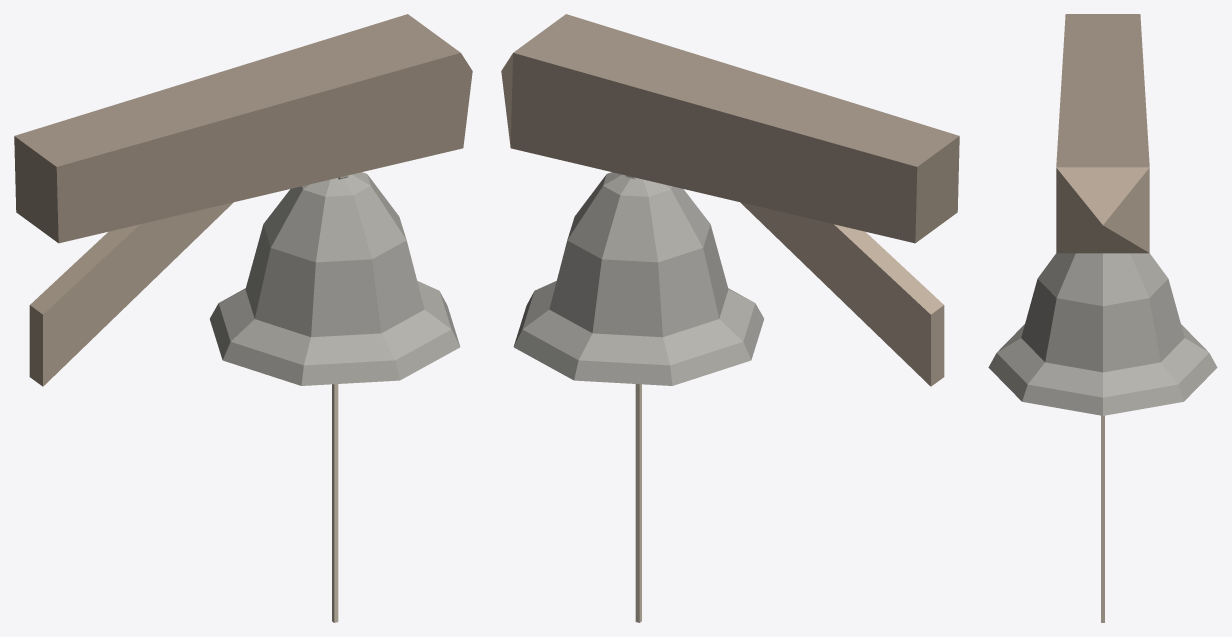
Rendered from campana1.glb.
The picture shows the model from 3 angles, left to right: view 1: azimuth 30°, elevation 25°; view 2: azimuth 150°, elevation 25°; view 3: azimuth 270°, elevation 25°; orthographic projection. The views are drawn at different scales.
Visible parts, largest first — view 1: object2, object6, object1, object3; view 2: object2, object6, object1, object3; view 3: object6, object2, object3.
Boxes of the visible parts, x1,y1,x2,y2 form: object2: (14,14,472,243); object6: (210,172,460,385); object1: (29,202,233,386); object3: (332,384,338,622); object2: (501,14,959,243); object6: (513,172,763,385); object1: (740,202,944,386); object3: (635,384,641,622); object6: (988,253,1217,415); object2: (1056,14,1149,253); object3: (1101,415,1104,622).
Bounding box in the file's own units: 0.9518 × 1.17 × 0.4896.
